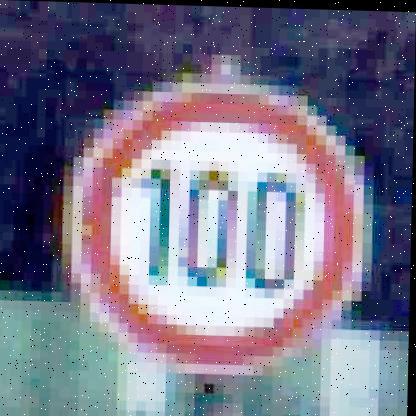Speed Limit -100-: (68, 76, 365, 378)
